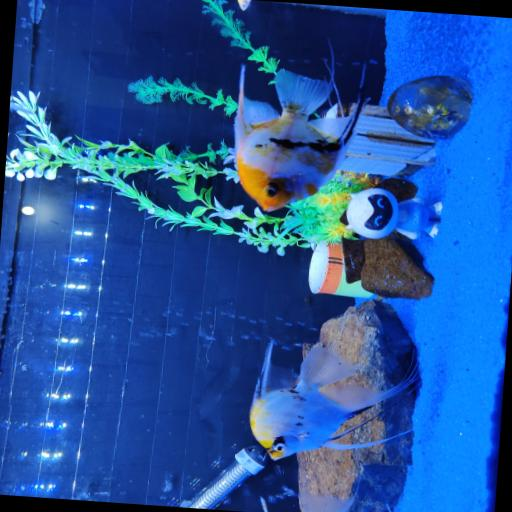Fish: (250, 340, 417, 460), (235, 66, 359, 211), (300, 493, 353, 511), (10, 103, 32, 113), (238, 0, 251, 11)
